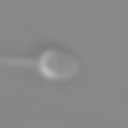normal: (1, 49, 39, 71)
